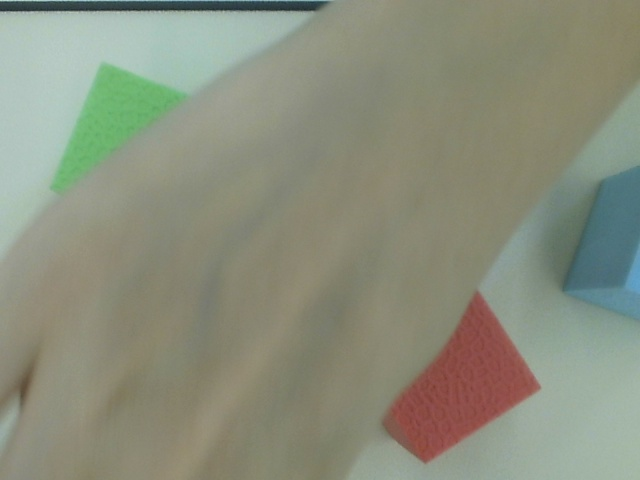bluecube: (559, 164, 640, 326)
greencube: (50, 58, 217, 202)
redcube: (346, 280, 548, 463)
